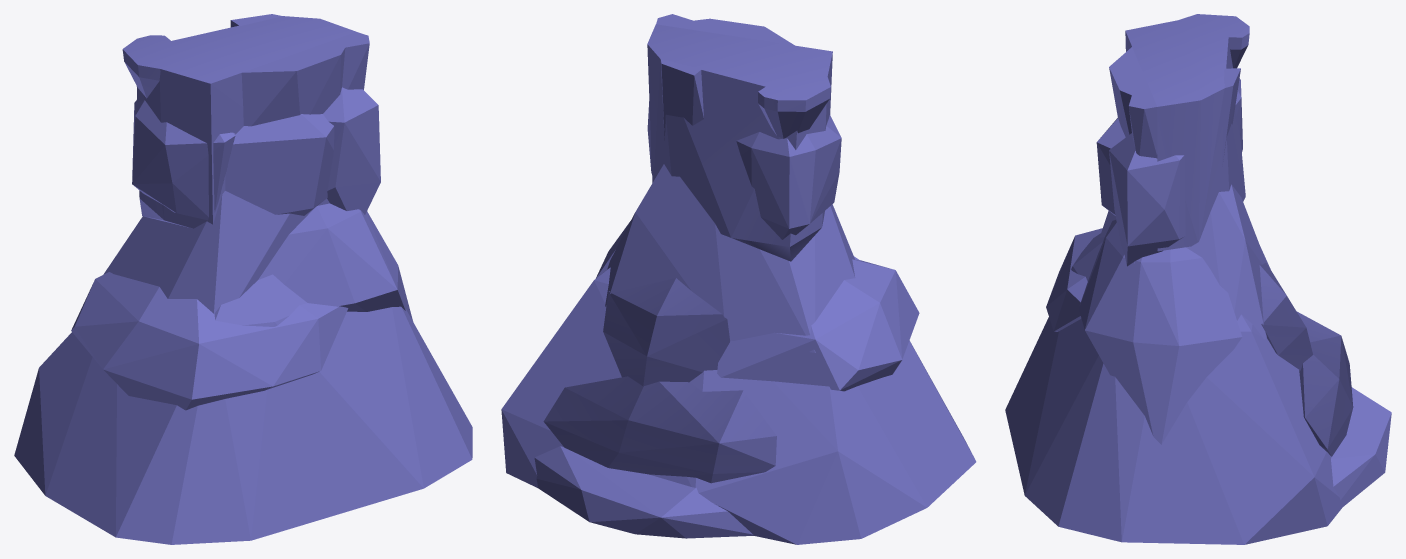
The model's file is Cliff_Plateau_03_Taper_Collider_01.FBX.
3 renders of one model, left to right at view 1: azimuth 30°, elevation 25°; view 2: azimuth 150°, elevation 25°; view 3: azimuth 270°, elevation 25°, orthographic. The views are drawn at different scales.
Parts seen in each view (by area): view 1: COLLIDER2, COLLIDER1, COLLIDER3, COLLIDER15, COLLIDER11, COLLIDER9, COLLIDER4, COLLIDER5, COLLIDER10, COLLIDER8, COLLIDER6; view 2: COLLIDER2, COLLIDER3, COLLIDER15, COLLIDER14, COLLIDER1, COLLIDER12, COLLIDER13, COLLIDER4, COLLIDER8, COLLIDER7, COLLIDER5; view 3: COLLIDER2, COLLIDER11, COLLIDER3, COLLIDER10, COLLIDER15, COLLIDER14, COLLIDER12, COLLIDER13, COLLIDER1, COLLIDER5, COLLIDER6, COLLIDER9 (+2 smaller).
Part boxes in pixels (x1,y1,x2,y2): COLLIDER2: (14, 274, 472, 544); COLLIDER1: (71, 272, 348, 410); COLLIDER3: (136, 16, 356, 228); COLLIDER15: (103, 191, 329, 313); COLLIDER11: (258, 203, 413, 321); COLLIDER9: (225, 114, 334, 215); COLLIDER4: (132, 100, 235, 220); COLLIDER5: (241, 40, 345, 126); COLLIDER10: (323, 87, 380, 214); COLLIDER8: (122, 35, 170, 98); COLLIDER6: (335, 32, 369, 89); COLLIDER2: (501, 256, 976, 544); COLLIDER3: (647, 24, 832, 261); COLLIDER15: (605, 164, 855, 352); COLLIDER14: (543, 376, 776, 483); COLLIDER1: (717, 259, 919, 391); COLLIDER12: (534, 446, 753, 538); COLLIDER13: (603, 278, 729, 386); COLLIDER4: (736, 115, 841, 239); COLLIDER8: (758, 77, 830, 138); COLLIDER7: (660, 59, 703, 140); COLLIDER5: (683, 18, 794, 45); COLLIDER2: (1005, 233, 1352, 544); COLLIDER11: (1079, 220, 1242, 444); COLLIDER3: (1125, 20, 1245, 251); COLLIDER10: (1109, 133, 1185, 266); COLLIDER15: (1100, 184, 1266, 339); COLLIDER14: (1296, 311, 1353, 456); COLLIDER12: (1331, 387, 1391, 506); COLLIDER13: (1259, 262, 1312, 370); COLLIDER1: (1046, 228, 1270, 331); COLLIDER5: (1109, 47, 1151, 137); COLLIDER6: (1128, 95, 1157, 158); COLLIDER9: (1096, 118, 1125, 215).
Bounding box in the file's own units: 683 × 668 × 601.
